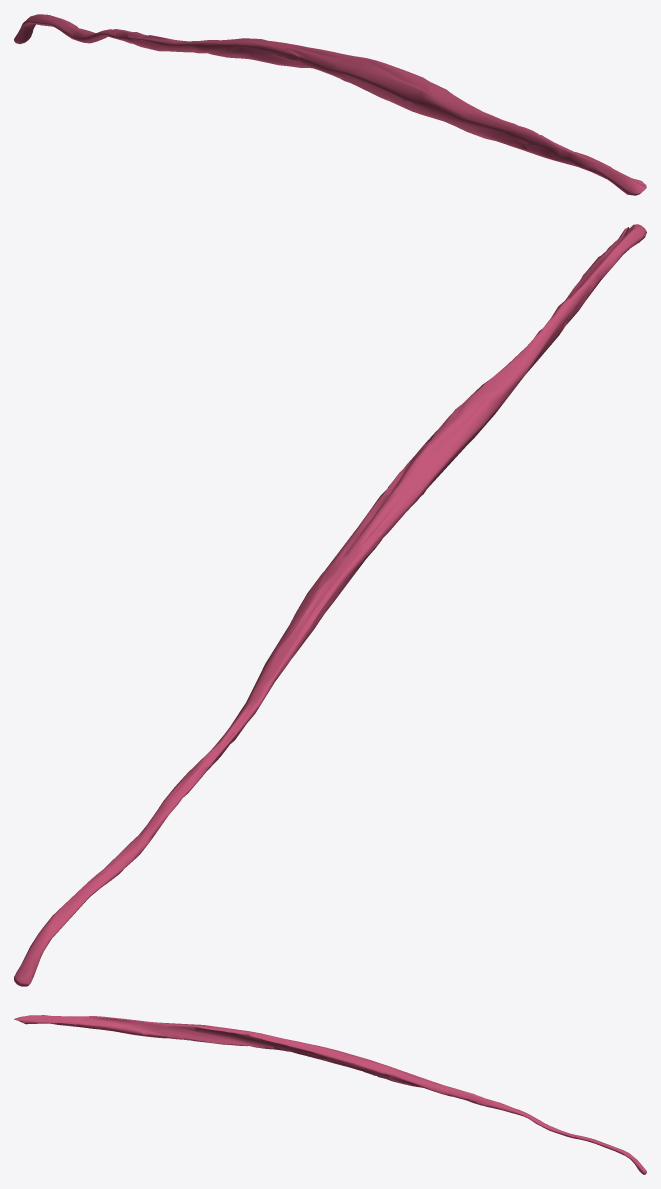
3 renders of one model, top to bottom at view 1: azimuth 30°, elevation 25°; view 2: azimuth 150°, elevation 25°; view 3: azimuth 270°, elevation 25°, orthographic. The views are drawn at different scales.
Parts seen in each view (by area): view 1: 右侧小指伸肌; view 2: 右侧小指伸肌; view 3: 右侧小指伸肌.
Boxes of the visible parts, x1=… form: 右侧小指伸肌: x1=14, y1=14, x2=646, y2=195; 右侧小指伸肌: x1=14, y1=224, x2=646, y2=986; 右侧小指伸肌: x1=14, y1=1015, x2=646, y2=1174.
Bounding box in the file's own units: 0.0248 × 0.1364 × 0.4949.
